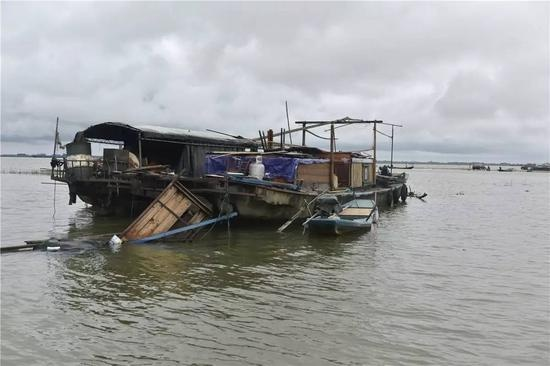otherboat: (139, 107, 407, 222), (302, 186, 382, 243)
